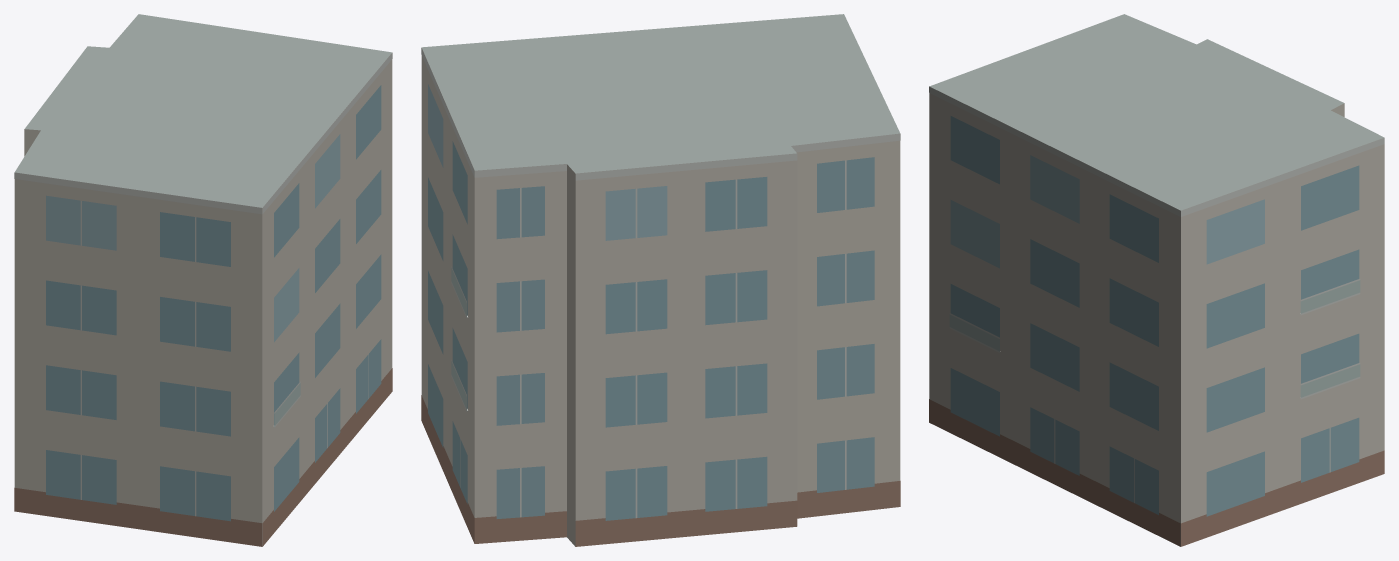
The model's file is survey-upis-32626503.glb.
The picture shows the model from 3 angles, left to right: view 1: azimuth 30°, elevation 25°; view 2: azimuth 150°, elevation 25°; view 3: azimuth 270°, elevation 25°; orthographic projection. The views are drawn at different scales.
Visible parts, largest first — view 1: survey-upis-32626503.tmp; view 2: survey-upis-32626503.tmp; view 3: survey-upis-32626503.tmp.
Boxes of the visible parts, <box> form: survey-upis-32626503.tmp: <box>14,14,392,546</box>; survey-upis-32626503.tmp: <box>421,14,900,546</box>; survey-upis-32626503.tmp: <box>929,14,1384,546</box>.
Bounding box in the file's own units: 16.07 × 12.8 × 15.72.
